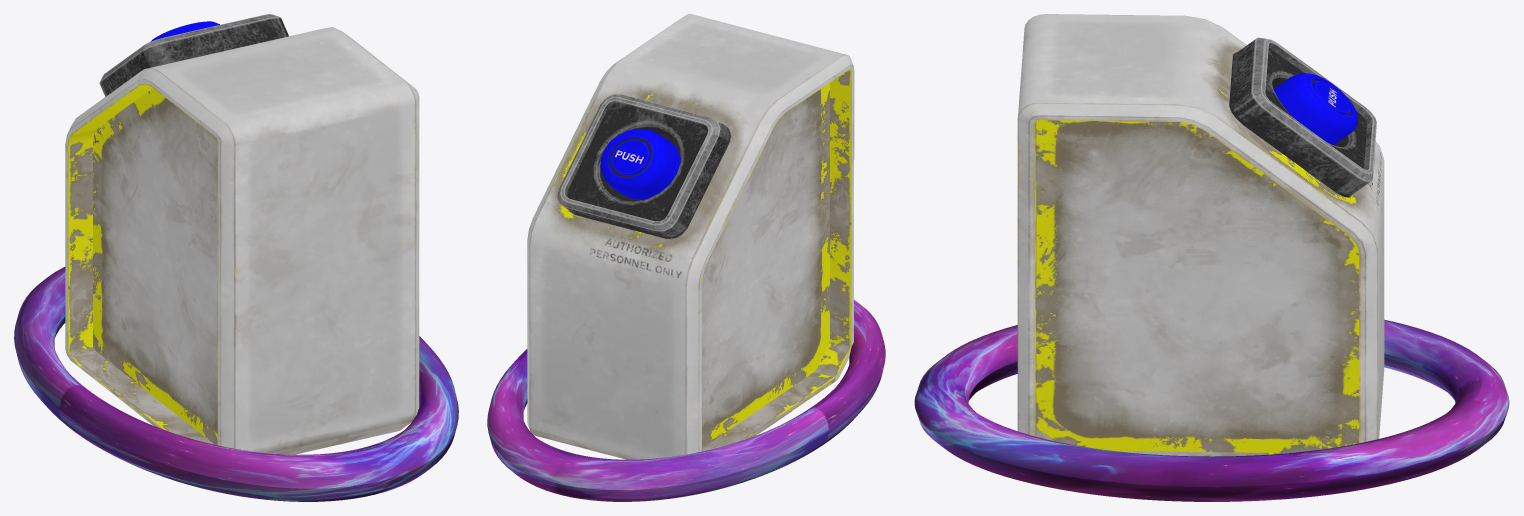
File: button3.glb
The picture shows the model from 3 angles, left to right: view 1: azimuth 30°, elevation 25°; view 2: azimuth 150°, elevation 25°; view 3: azimuth 270°, elevation 25°; orthographic projection. The views are drawn at different scales.
Parts seen in each view (by area): view 1: Object_9.330, Torus.018; view 2: Object_9.330, Torus.018; view 3: Object_9.330, Torus.018.
Part boxes in pixels (x1,y1,x2,y2): Object_9.330: (65, 14, 419, 454); Torus.018: (14, 267, 458, 501); Object_9.330: (527, 14, 854, 459); Torus.018: (487, 300, 885, 501); Object_9.330: (1017, 14, 1384, 456); Torus.018: (914, 319, 1509, 501).
Bounding box in the file's own units: 1.66 × 1.68 × 2.47.
Materials: 2 (2 with a texture image).
